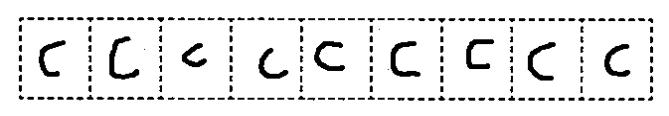C: (102, 36, 146, 84), (521, 40, 564, 86), (386, 37, 427, 85), (33, 36, 74, 82), (596, 41, 640, 82), (459, 33, 500, 76), (310, 37, 349, 76), (172, 37, 216, 71), (252, 45, 290, 83)
